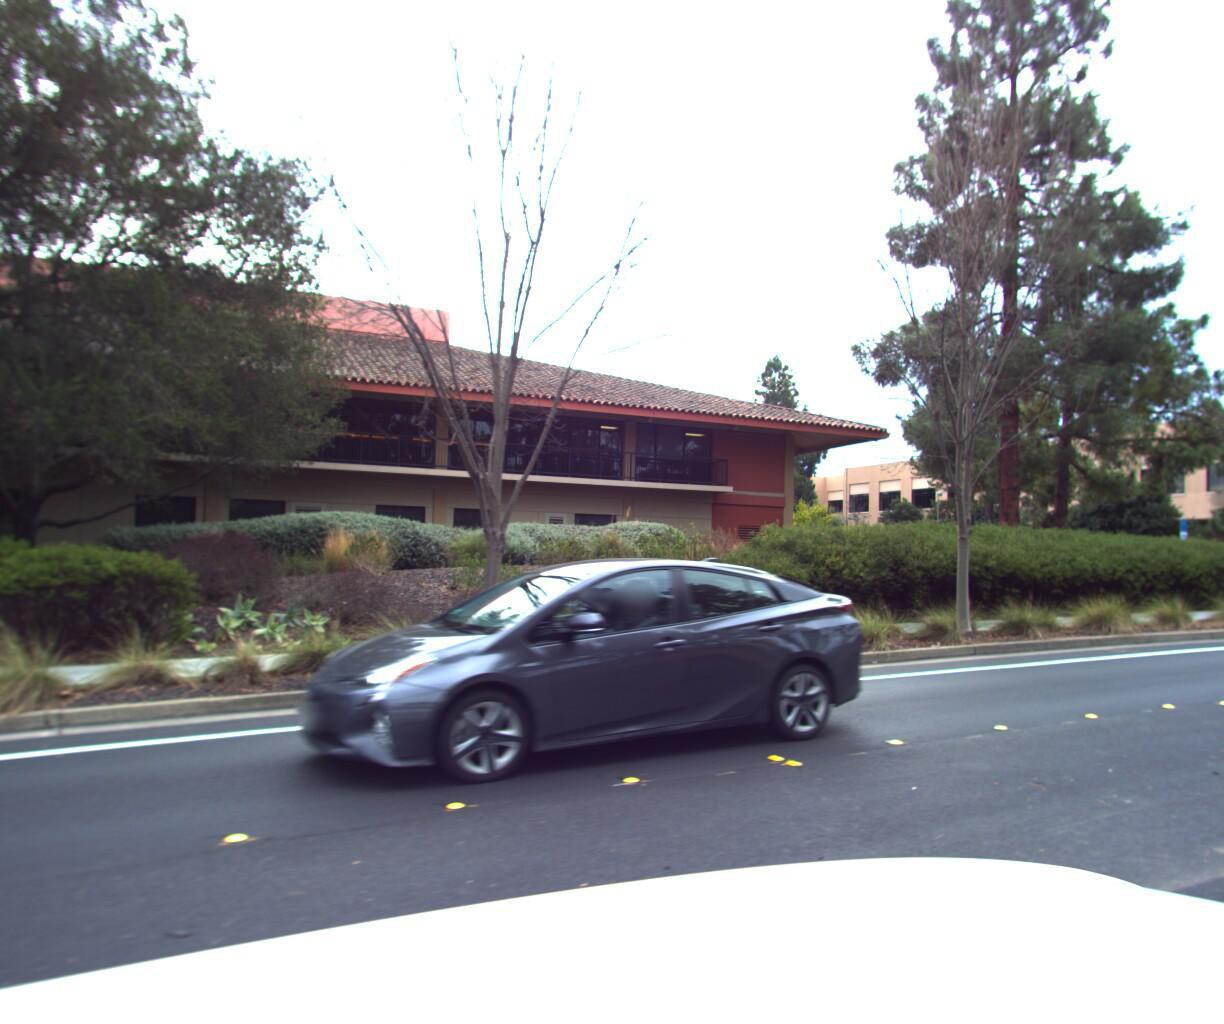car: (279, 535, 883, 787)
